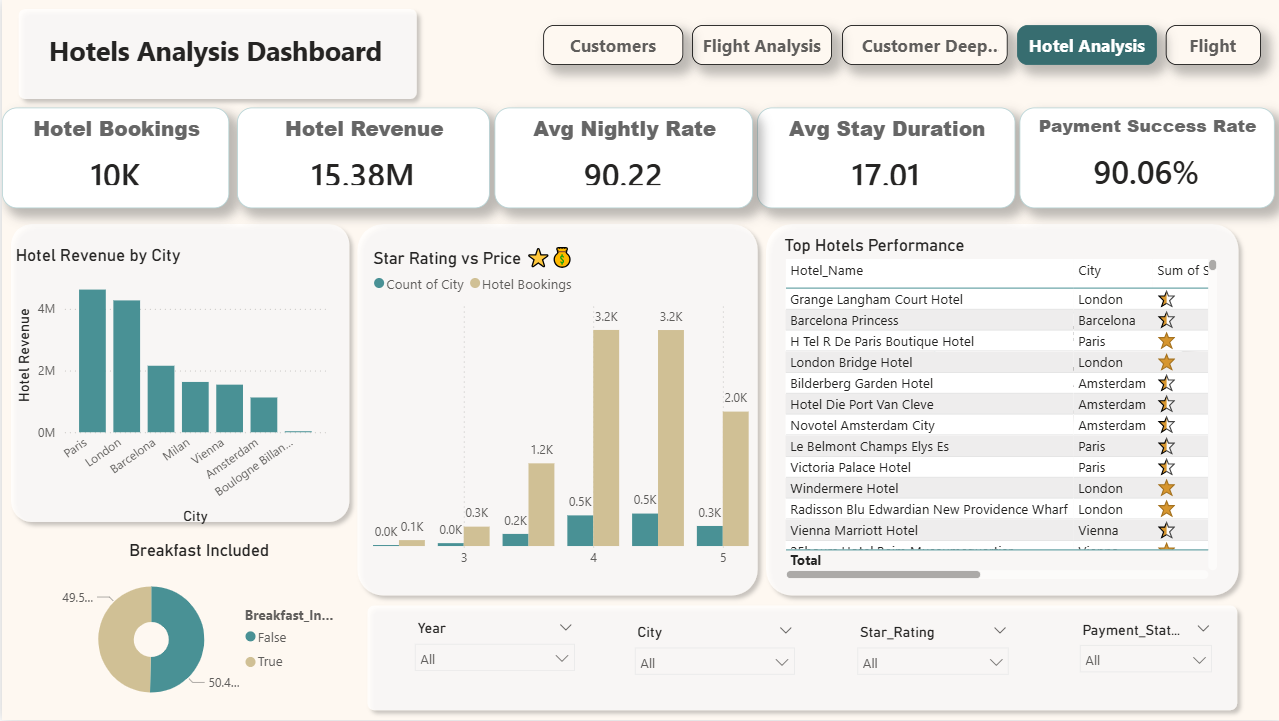

Layout of this report page (visuals, bound fields, positions):
{"tool":"powerbi","page":{"name":"Hotel Analytics","canvas":[1280,720],"ordinal":3},"visuals":[{"type":"shape","box":[0,215,356.4,316],"z":0},{"type":"shape","box":[356.7,596.5,888,123.1],"z":1000},{"type":"shape","box":[7.8,0,416.3,108],"z":2000},{"type":"shape","box":[346.3,215,418.4,389.5],"z":3000},{"type":"shape","box":[754.6,215,490.5,389.5],"z":4000},{"type":"textbox","box":[14.6,27.2,396.8,54.5],"z":5000},{"type":"cardVisual","title":"Hotel Bookings","fields":{"Data":["_Measures.Hotel Bookings"]},"box":[0,108,227.6,101.2],"z":6000},{"type":"cardVisual","title":"Hotel Revenue","fields":{"Data":["_Measures.Hotel Revenue"]},"box":[234.4,108,252.9,101.2],"z":7000},{"type":"cardVisual","title":"Avg Stay Duration","fields":{"Data":["_Measures.Avg Stay Duration"]},"box":[754.8,108,258.7,101.2],"z":8000},{"type":"cardVisual","title":"Avg Nightly Rate","fields":{"Data":["_Measures.Avg Nightly Rate","_Measures.Avg Nightly Rate"]},"box":[492.2,108,258.7,101.2],"z":9000},{"type":"cardVisual","title":"Payment Success Rate","fields":{"Data":["_Measures.Payment Success Rate"]},"box":[1017.4,108,254.8,101.2],"z":10000},{"type":"textbox","box":[217.1,339.9,78.3,46.3],"z":11000},{"type":"slicer","fields":{"Values":["dim_date.Year"]},"box":[401.9,615.6,180.1,90.5],"z":12000},{"type":"slicer","fields":{"Values":["Dim_Hotel.City"]},"box":[621.9,618.3,180.1,85.1],"z":13000},{"type":"slicer","fields":{"Values":["Dim_Hotel.Star_Rating"]},"box":[845.5,618.3,172,90.5],"z":14000},{"type":"slicer","fields":{"Values":["Fact_Hotel_Booking.Payment_Status"]},"box":[1068,615.7,152.7,90.5],"z":15000},{"type":"cardVisual","title":"Long Stay Bookings","fields":{"Data":["_Measures.Long Stay Bookings"]},"box":[932.8,313,248.3,98.4],"z":17000},{"type":"tableEx","title":"Top Hotels Performance","fields":{"Values":["Dim_Hotel.Hotel_Name","Dim_Hotel.City","Sum(Dim_Hotel.Star_Rating)","_Measures.Hotel Bookings","_Measures.Hotel Revenue","_Measures.Avg Nightly Rate","_Measures.Avg Stay Duration"]},"box":[777.6,235.2,442.9,349.1],"z":18000},{"type":"clusteredColumnChart","title":"Star Rating vs Price ⭐💰","fields":{"Category":["Dim_Hotel.Star_Rating"],"Y":["CountNonNull(Dim_Hotel.City)","_Measures.Hotel Bookings"]},"box":[365.7,243.5,385.6,332.2],"z":19000},{"type":"clusteredColumnChart","fields":{"Category":["Dim_Hotel.City"],"Y":["_Measures.Hotel Revenue"]},"box":[8.1,244.4,320.5,284.2],"z":20000},{"type":"donutChart","title":"Breakfast Included","fields":{"Category":["Fact_Hotel_Booking.Breakfast_Included"],"Y":["_Measures.Hotel Bookings"]},"box":[51.6,539.5,291.5,180.1],"z":21000},{"type":"actionButton","title":"Customers","box":[541.7,25.4,140.1,39.9],"z":22000},{"type":"actionButton","title":"Flight Analysis","box":[689.8,25.4,140.1,39.9],"z":23000},{"type":"actionButton","title":"Customer deep dive","box":[840.5,25.4,165.8,39.9],"z":24000},{"type":"actionButton","title":"Hotel Analysis","box":[1015.2,25.4,140.1,39.9],"z":25000},{"type":"actionButton","title":"Flight ","box":[1164.1,25.4,94.9,39.9],"z":26000}]}

Visuals, with their boxes in screenshot pixels (x1, y1, x2, y2), scaled from the page's 1280x720 canvas onto the 1279x721 screenshot:
shape: crop(0, 215, 356, 532)
shape: crop(356, 597, 1244, 720)
shape: crop(8, 0, 424, 108)
shape: crop(346, 215, 764, 605)
shape: crop(754, 215, 1244, 605)
textbox: crop(15, 27, 411, 82)
"Hotel Bookings" cardVisual: crop(0, 108, 227, 209)
"Hotel Revenue" cardVisual: crop(234, 108, 487, 209)
"Avg Stay Duration" cardVisual: crop(754, 108, 1013, 209)
"Avg Nightly Rate" cardVisual: crop(492, 108, 750, 209)
"Payment Success Rate" cardVisual: crop(1017, 108, 1271, 209)
textbox: crop(217, 340, 295, 387)
slicer - dim_date.Year: crop(402, 616, 582, 707)
slicer - Dim_Hotel.City: crop(621, 619, 801, 704)
slicer - Dim_Hotel.Star_Rating: crop(845, 619, 1017, 710)
slicer - Fact_Hotel_Booking.Payment_Status: crop(1067, 617, 1220, 707)
"Long Stay Bookings" cardVisual: crop(932, 313, 1180, 412)
"Top Hotels Performance" tableEx: crop(777, 236, 1220, 585)
"Star Rating vs Price ⭐💰" clusteredColumnChart: crop(365, 244, 751, 576)
clusteredColumnChart - Dim_Hotel.City x _Measures.Hotel Revenue: crop(8, 245, 328, 529)
"Breakfast Included" donutChart: crop(52, 540, 343, 720)
"Customers" actionButton: crop(541, 25, 681, 65)
"Flight Analysis" actionButton: crop(689, 25, 829, 65)
"Customer deep dive" actionButton: crop(840, 25, 1006, 65)
"Hotel Analysis" actionButton: crop(1014, 25, 1154, 65)
"Flight " actionButton: crop(1163, 25, 1258, 65)
